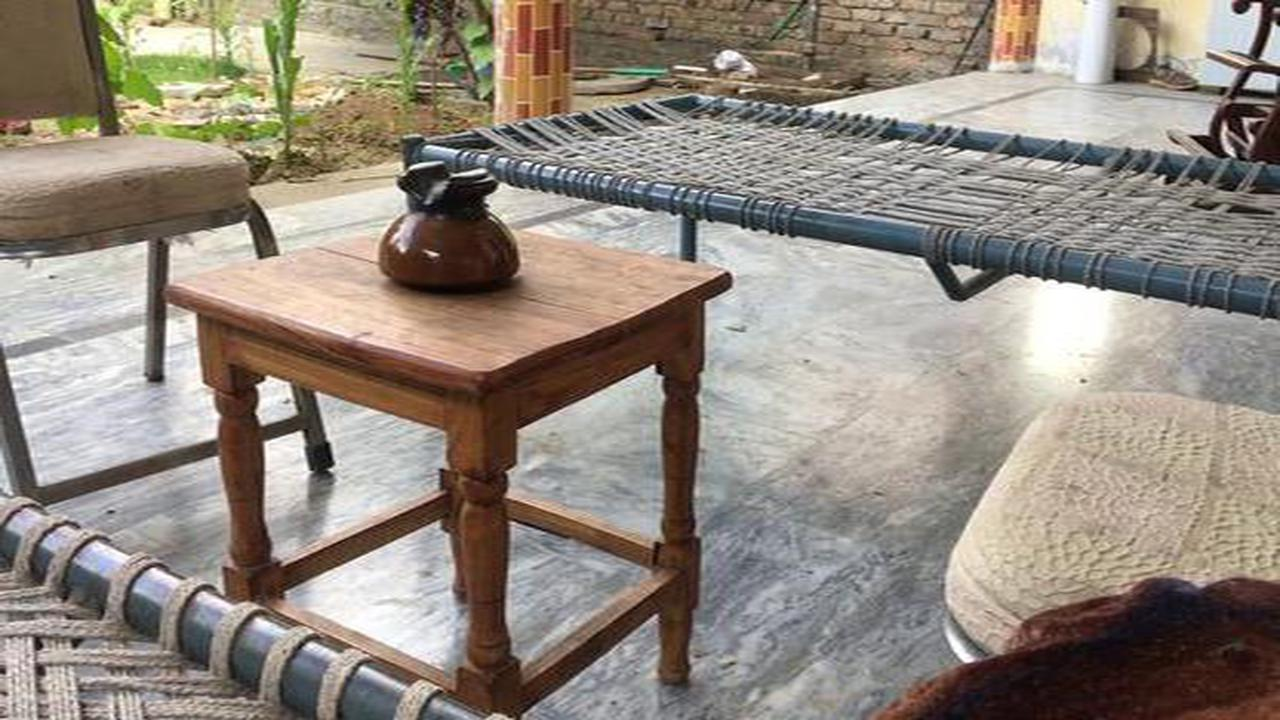insulator_pin: (364, 142, 542, 309)
